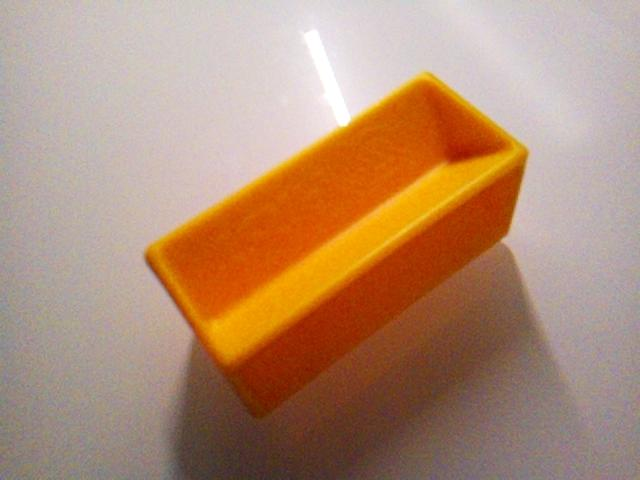yellow: (143, 69, 531, 420)
